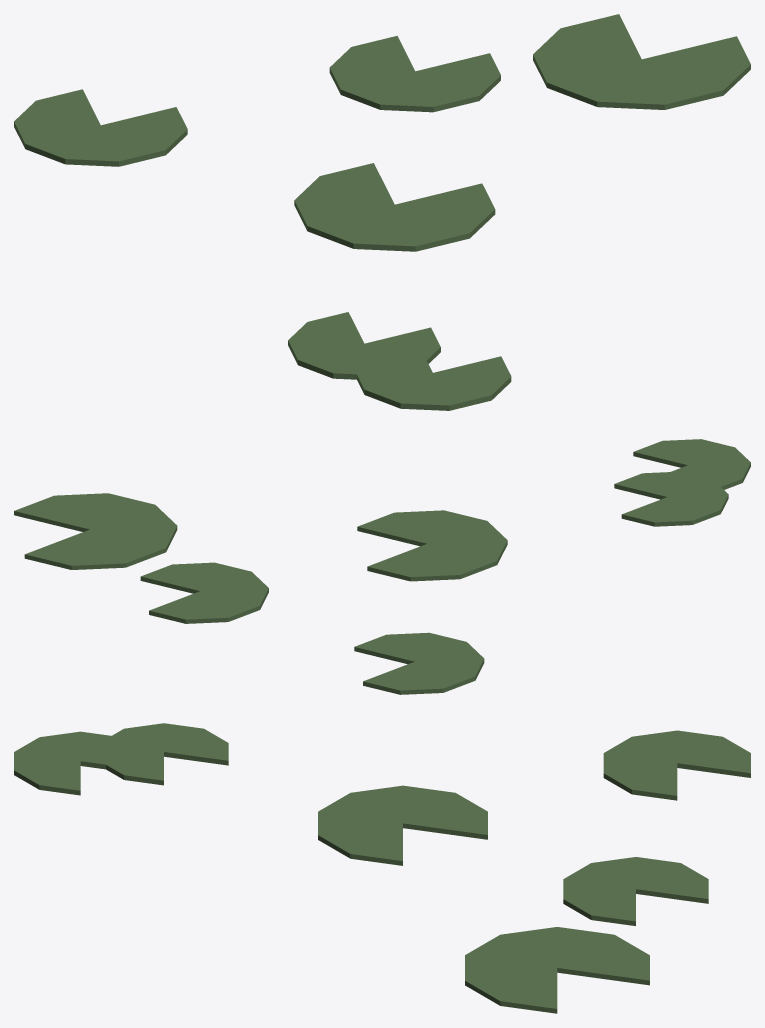
Rendered from lily_pads.fbx.
The picture shows the model from 3 angles, top to bottom: view 1: azimuth 30°, elevation 25°; view 2: azimuth 150°, elevation 25°; view 3: azimuth 270°, elevation 25°; orthographic projection. The views are drawn at different scales.
Visible parts, largest first — view 1: lily_pads; view 2: lily_pads; view 3: lily_pads.
Boxes of the visible parts, <box> form: lily_pads: <box>14,14,750,410</box>; lily_pads: <box>14,439,750,694</box>; lily_pads: <box>14,723,750,1013</box>.
Bounding box in the file's own units: 641 × 5 × 698.
